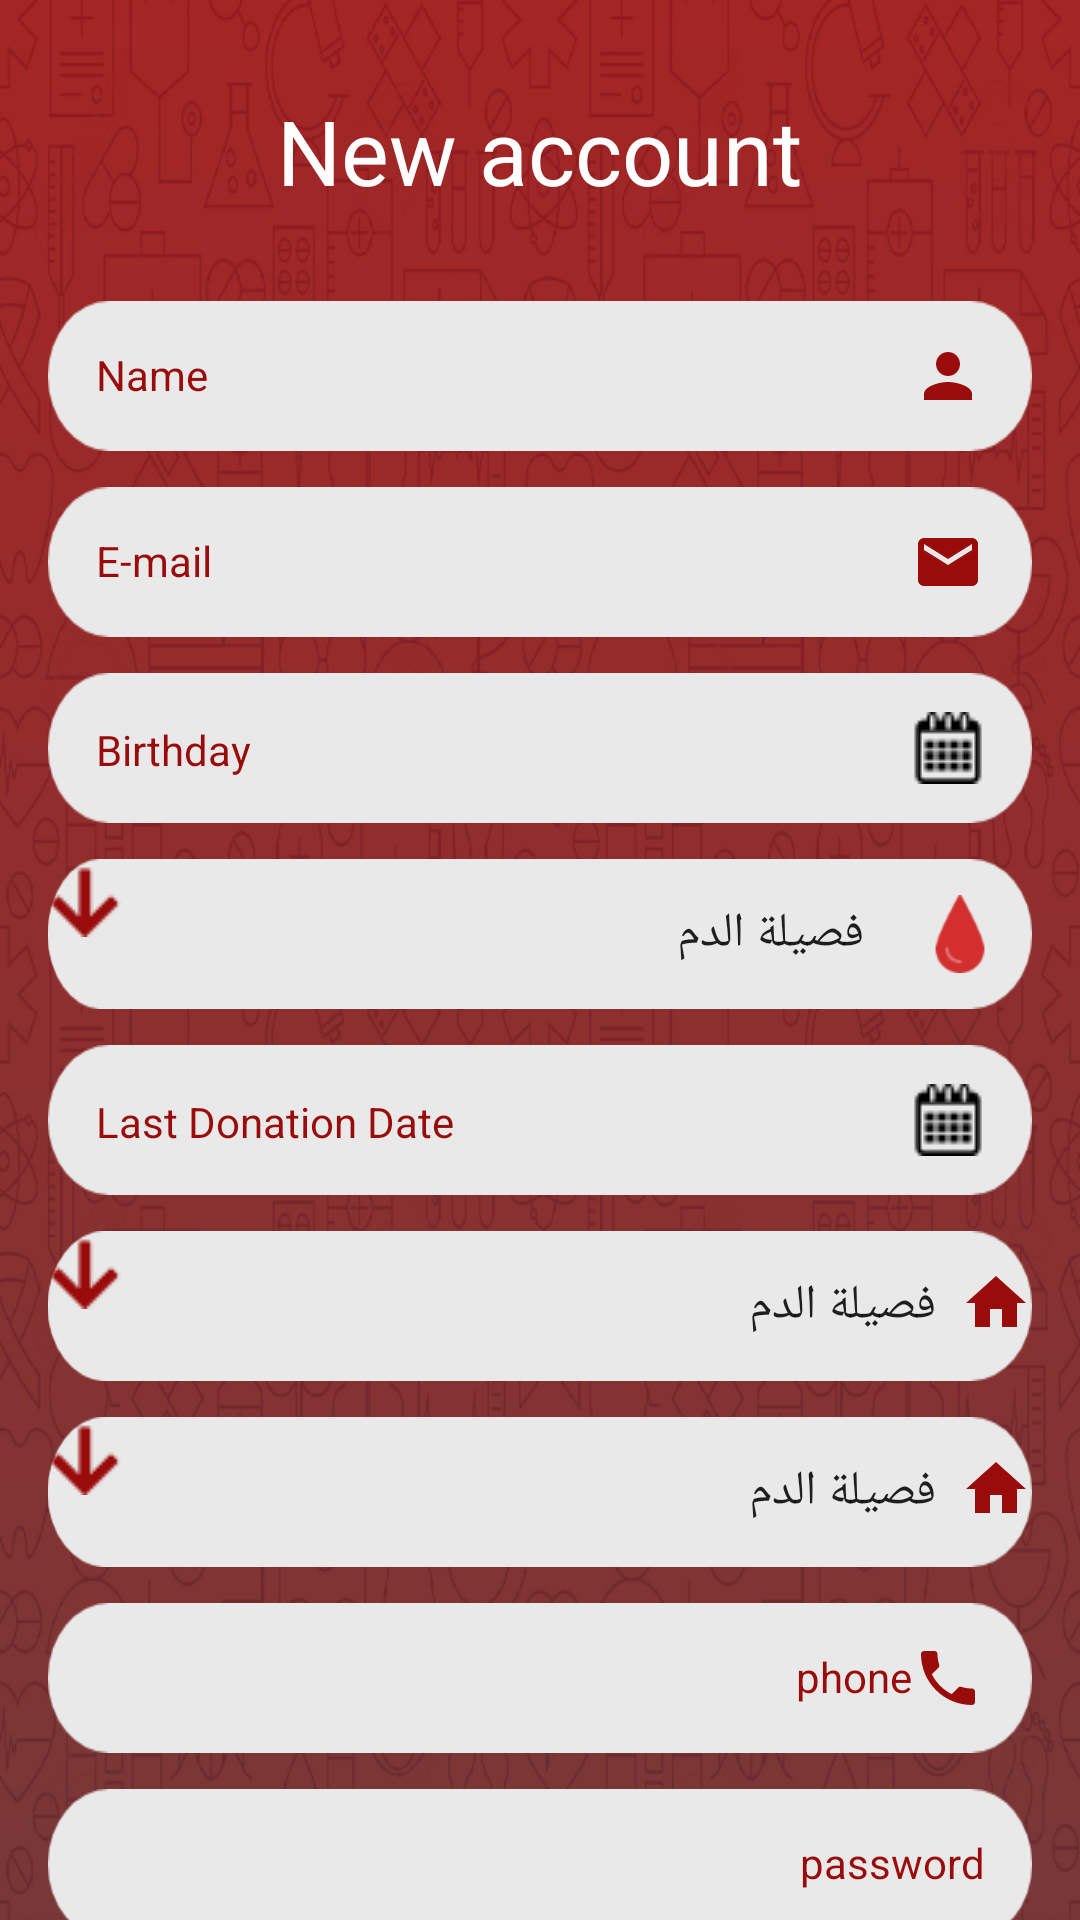

Where to tap for icons on this 1080*1920 app screen, as (x=x, y=y):
blood drop: (x=960, y=934)
drop down: (x=90, y=898), (x=90, y=1270), (x=90, y=1456)
home: (x=996, y=1301), (x=996, y=1487)
